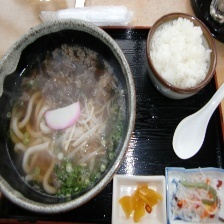rice: (148, 15, 212, 90)
